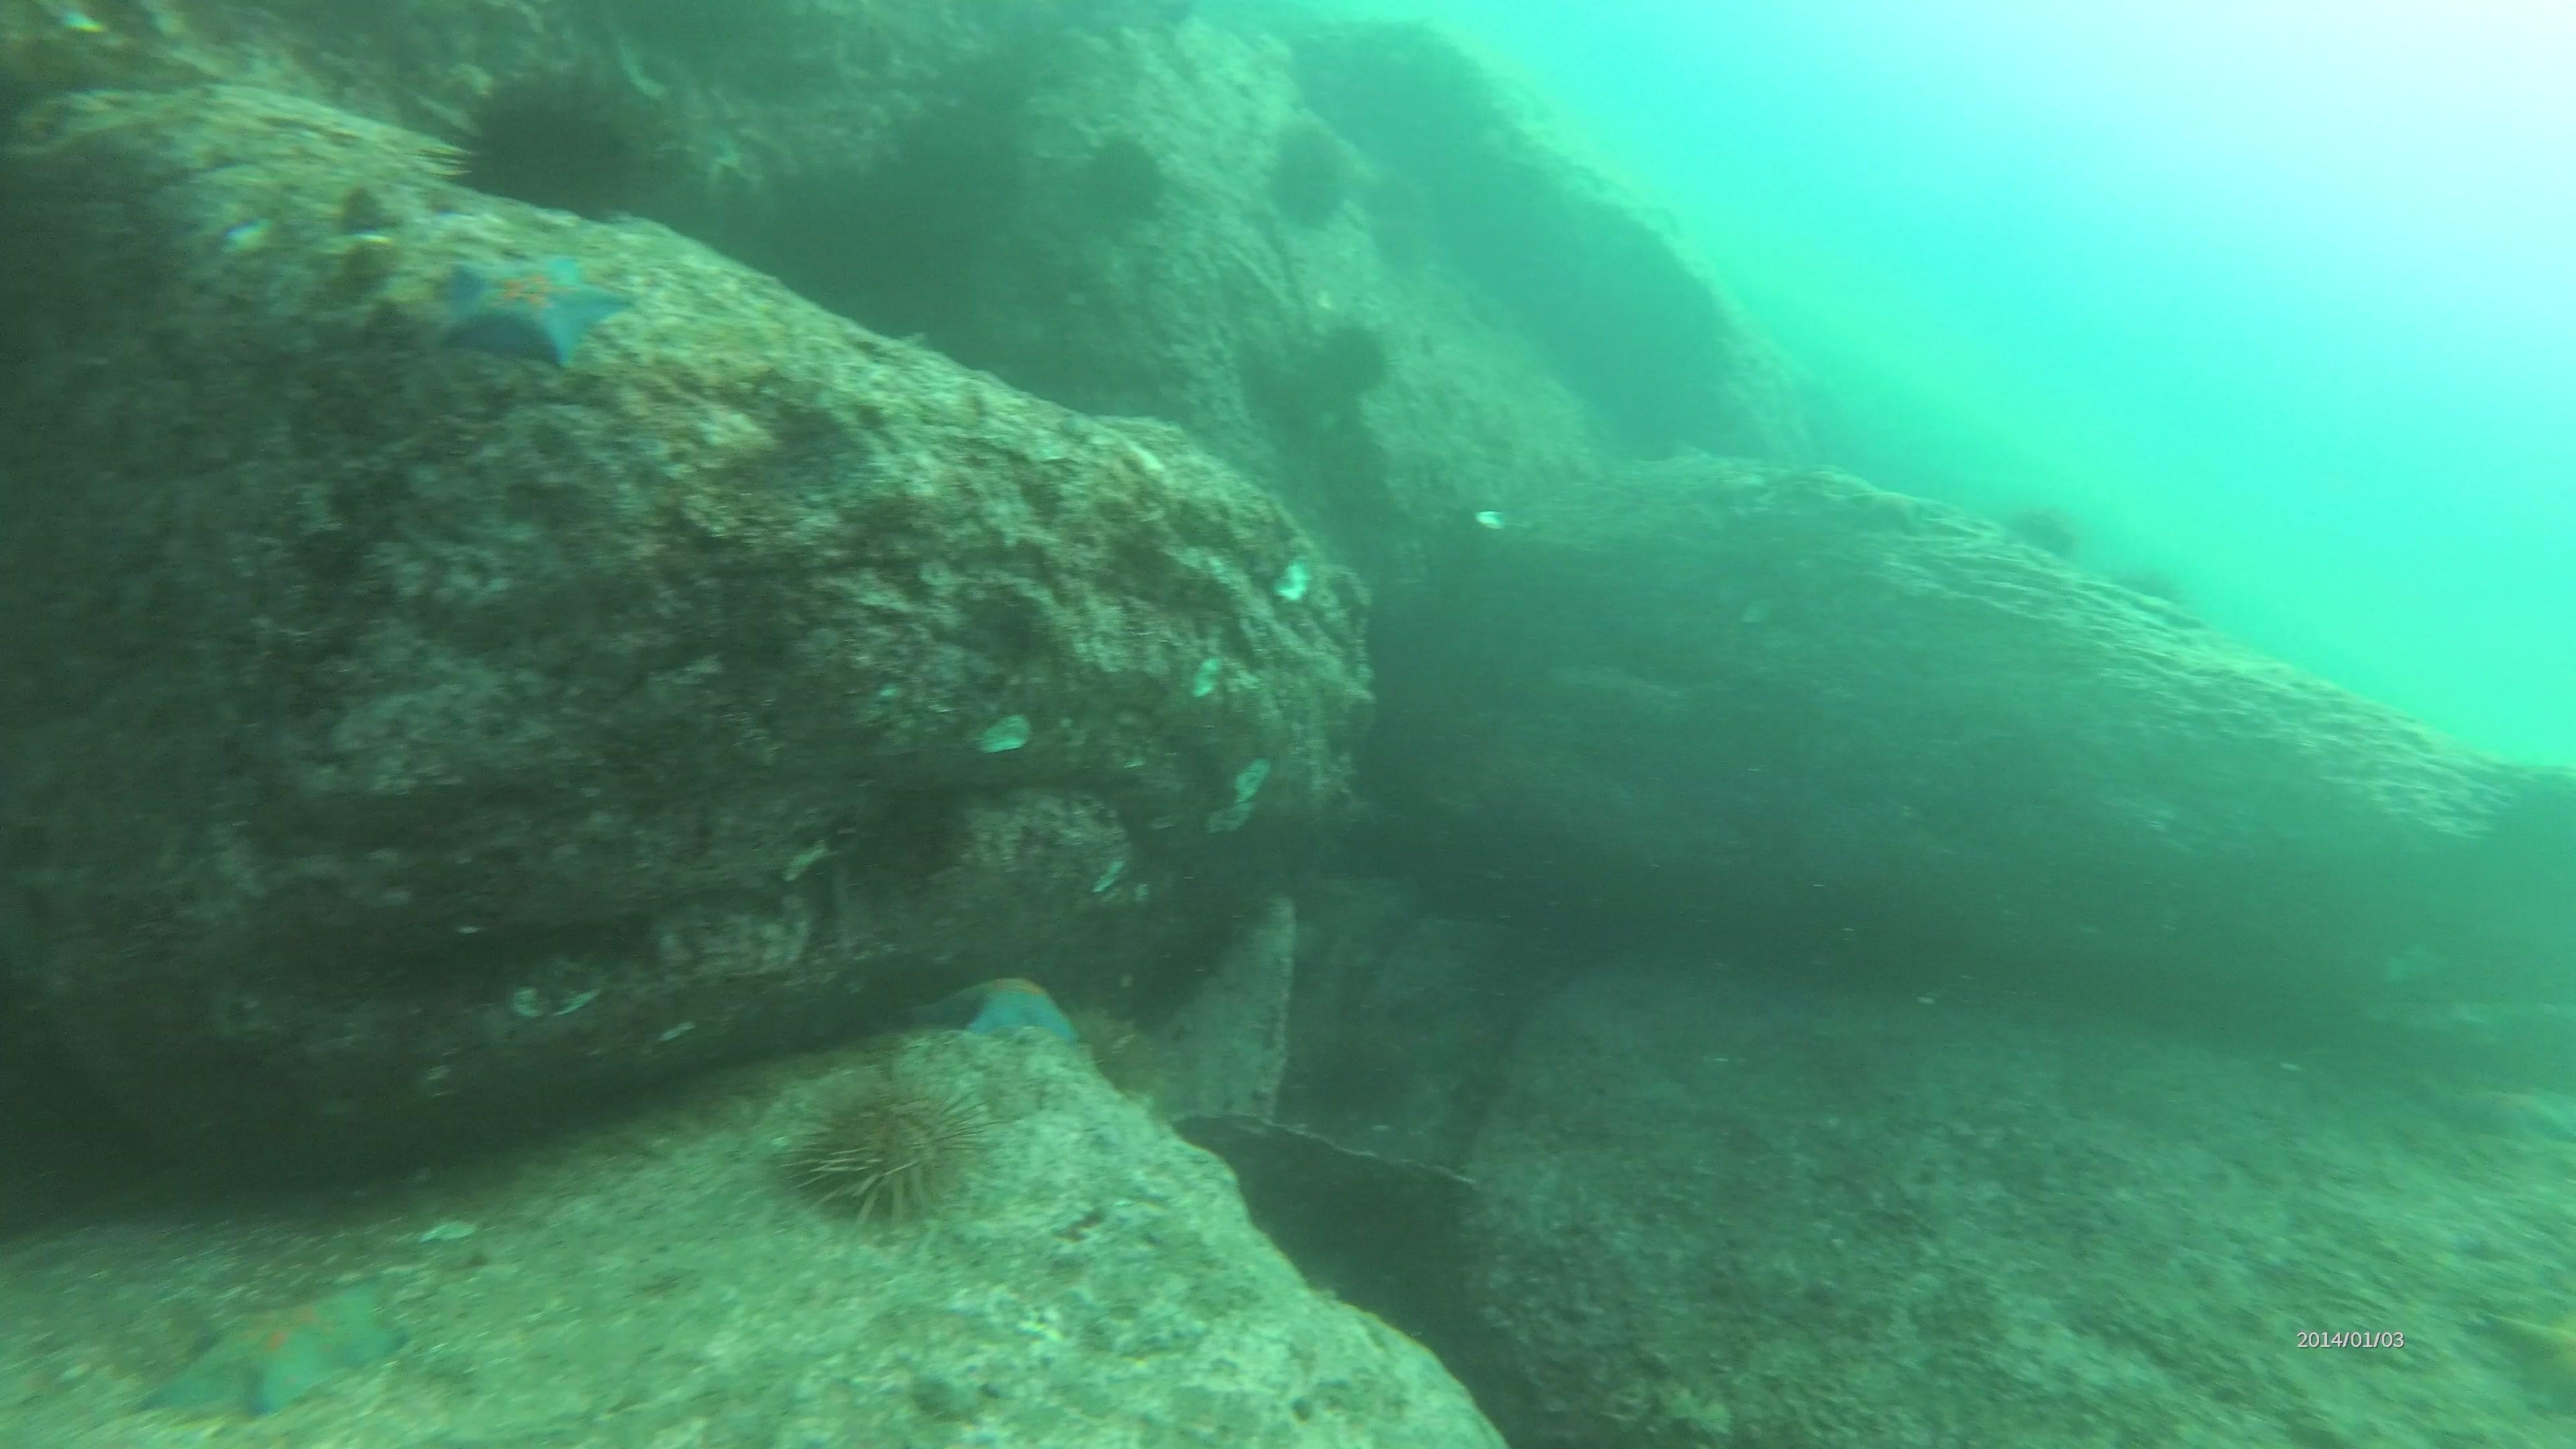echinus: (782, 1065, 996, 1233), (435, 69, 648, 223), (1063, 994, 1177, 1108), (1067, 127, 1175, 237), (1260, 119, 1355, 235), (1300, 311, 1399, 414), (1996, 497, 2084, 566), (2114, 563, 2196, 628)
starfish: (136, 1270, 410, 1428), (426, 244, 637, 373), (904, 970, 1086, 1054), (2465, 1297, 2576, 1422), (2440, 1076, 2576, 1152)
